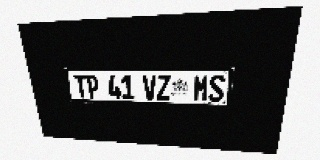1: (120, 75, 135, 99)
4: (107, 75, 122, 99)
M: (193, 75, 209, 102)
P: (85, 75, 100, 99)
S: (208, 75, 225, 102)
T: (73, 75, 88, 98)
V: (142, 75, 157, 100)
Z: (156, 75, 171, 100)
